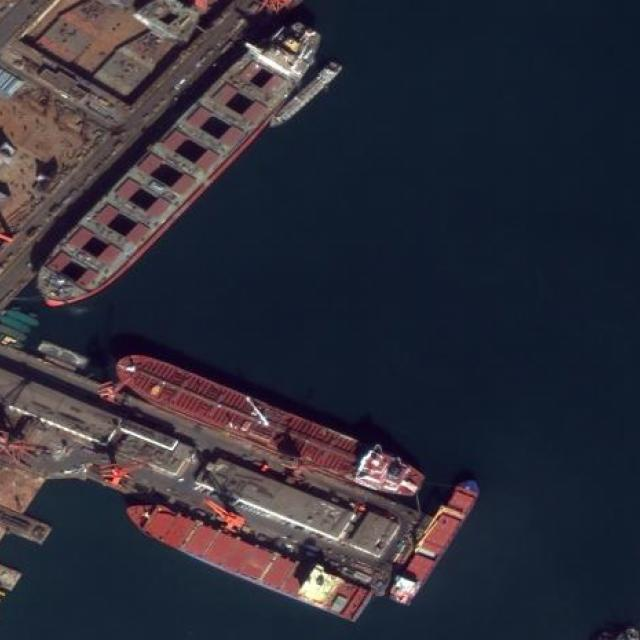Cargo: (25, 5, 336, 323), (121, 488, 372, 630), (388, 476, 482, 609)
Oil Tanker: (108, 345, 429, 506)
Other Ship: (264, 56, 344, 137)
